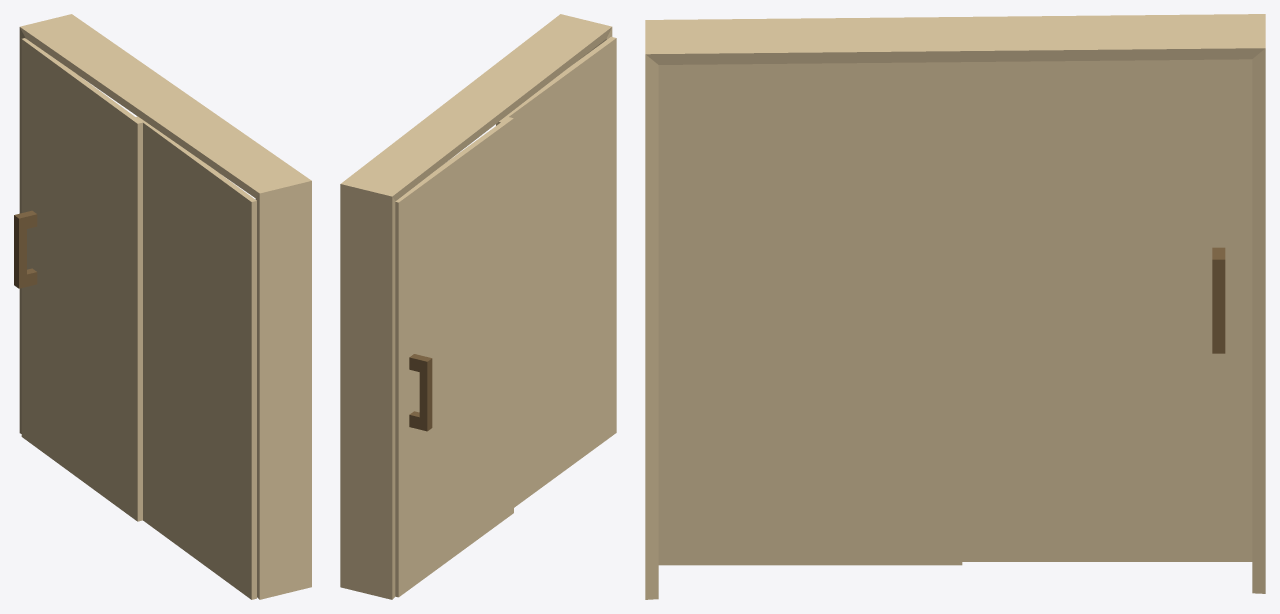
Rendered from door3.fbx.
3 renders of one model, left to right at view 1: azimuth 30°, elevation 25°; view 2: azimuth 150°, elevation 25°; view 3: azimuth 270°, elevation 25°, orthographic. The views are drawn at different scales.
Visible parts, largest first — view 1: door3-2, door3-1, door3Portal; view 2: door3-2, door3-1, door3Portal; view 3: door3-1, door3-2, door3Portal.
Boxes of the visible parts, left/top/right/bottom form: door3-2: left=14, top=38, right=142, bottom=521; door3-1: left=136, top=116, right=256, bottom=599; door3Portal: left=19, top=14, right=311, bottom=599; door3-2: left=395, top=117, right=513, bottom=597; door3-1: left=496, top=36, right=616, bottom=507; door3Portal: left=340, top=14, right=612, bottom=599; door3-1: left=658, top=62, right=962, bottom=565; door3-2: left=962, top=59, right=1252, bottom=561; door3Portal: left=645, top=14, right=1265, bottom=599.
Bounding box in the file's own units: 116 × 548 × 564.
